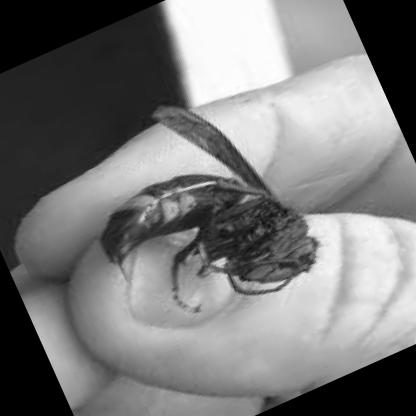asian: (61, 79, 328, 349)
